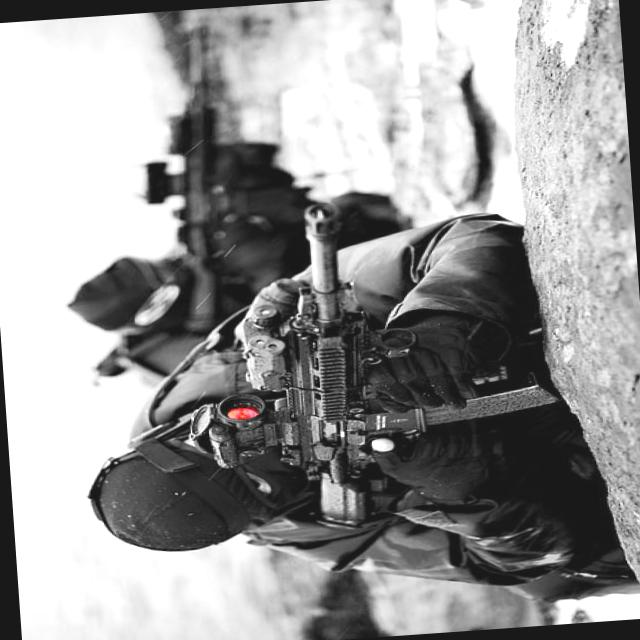long weapon: (208, 192, 446, 546)
